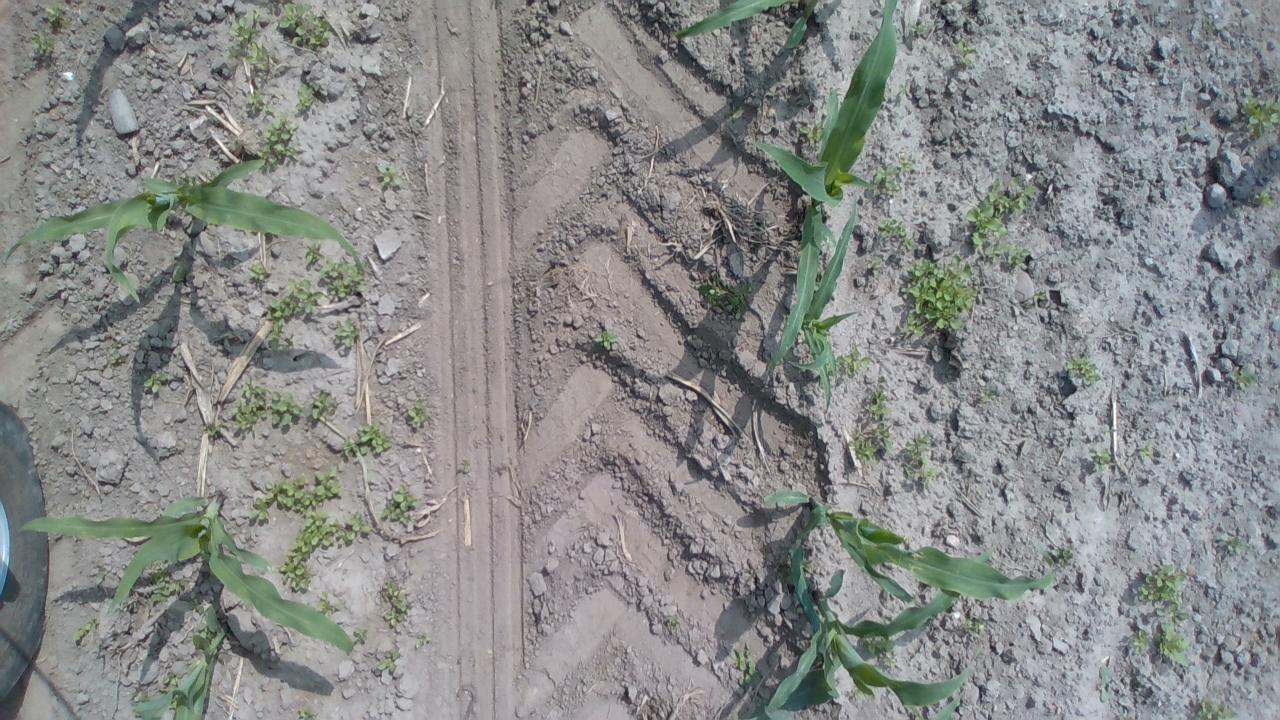Maize: (16, 494, 359, 657), (749, 0, 900, 368), (2, 157, 369, 306), (747, 545, 994, 720), (762, 489, 1058, 604), (784, 196, 859, 413), (132, 602, 228, 720), (674, 0, 821, 51)
Weeds: (966, 176, 1039, 270), (902, 254, 978, 334), (278, 510, 347, 593), (262, 467, 342, 514), (224, 9, 271, 73), (264, 278, 322, 326), (278, 0, 332, 48), (257, 113, 299, 170), (705, 274, 751, 320), (232, 377, 268, 431), (320, 257, 368, 297), (1138, 565, 1184, 605), (1241, 96, 1280, 140), (342, 422, 392, 456), (380, 484, 418, 526), (904, 434, 939, 478), (379, 580, 411, 626), (1156, 624, 1190, 666), (150, 564, 184, 603), (270, 392, 304, 426), (866, 376, 892, 420), (732, 642, 758, 685), (1066, 354, 1102, 384), (835, 347, 871, 375), (1196, 697, 1236, 720), (850, 429, 876, 464), (332, 320, 360, 348), (1156, 604, 1188, 626), (296, 82, 320, 111), (346, 512, 370, 541), (864, 632, 894, 655), (1044, 545, 1074, 568), (874, 168, 900, 194), (312, 393, 336, 421), (46, 1, 70, 28), (317, 592, 342, 617), (28, 29, 54, 53), (129, 690, 151, 718), (377, 164, 402, 188), (798, 122, 823, 146), (876, 421, 894, 454), (408, 399, 428, 428), (376, 648, 400, 672), (1220, 532, 1246, 554), (956, 38, 976, 66), (878, 218, 909, 236), (1230, 370, 1256, 390), (1130, 629, 1150, 654), (1090, 449, 1112, 471), (144, 373, 168, 393), (304, 240, 324, 264), (594, 330, 618, 350), (244, 88, 262, 114), (1098, 665, 1110, 704), (248, 497, 268, 520), (74, 619, 92, 642), (196, 622, 214, 644), (162, 671, 184, 689), (171, 262, 190, 282), (775, 560, 792, 582), (961, 618, 985, 633), (250, 262, 268, 280), (268, 324, 280, 350), (1254, 190, 1272, 207), (898, 154, 914, 172), (868, 260, 884, 278), (352, 626, 368, 642), (899, 237, 917, 251), (1138, 442, 1153, 458), (812, 271, 823, 292), (297, 706, 313, 720), (850, 686, 866, 700), (181, 174, 197, 187), (108, 354, 125, 366), (414, 636, 428, 650), (189, 599, 203, 613), (726, 108, 740, 122), (800, 557, 811, 574), (897, 82, 909, 96), (168, 694, 178, 710), (205, 170, 218, 182), (980, 390, 994, 401), (910, 24, 926, 33), (206, 426, 220, 436), (884, 657, 896, 668), (263, 105, 275, 115), (760, 216, 769, 229), (1034, 292, 1046, 300), (461, 464, 472, 472), (111, 342, 121, 348), (158, 690, 168, 696), (670, 618, 677, 624)
